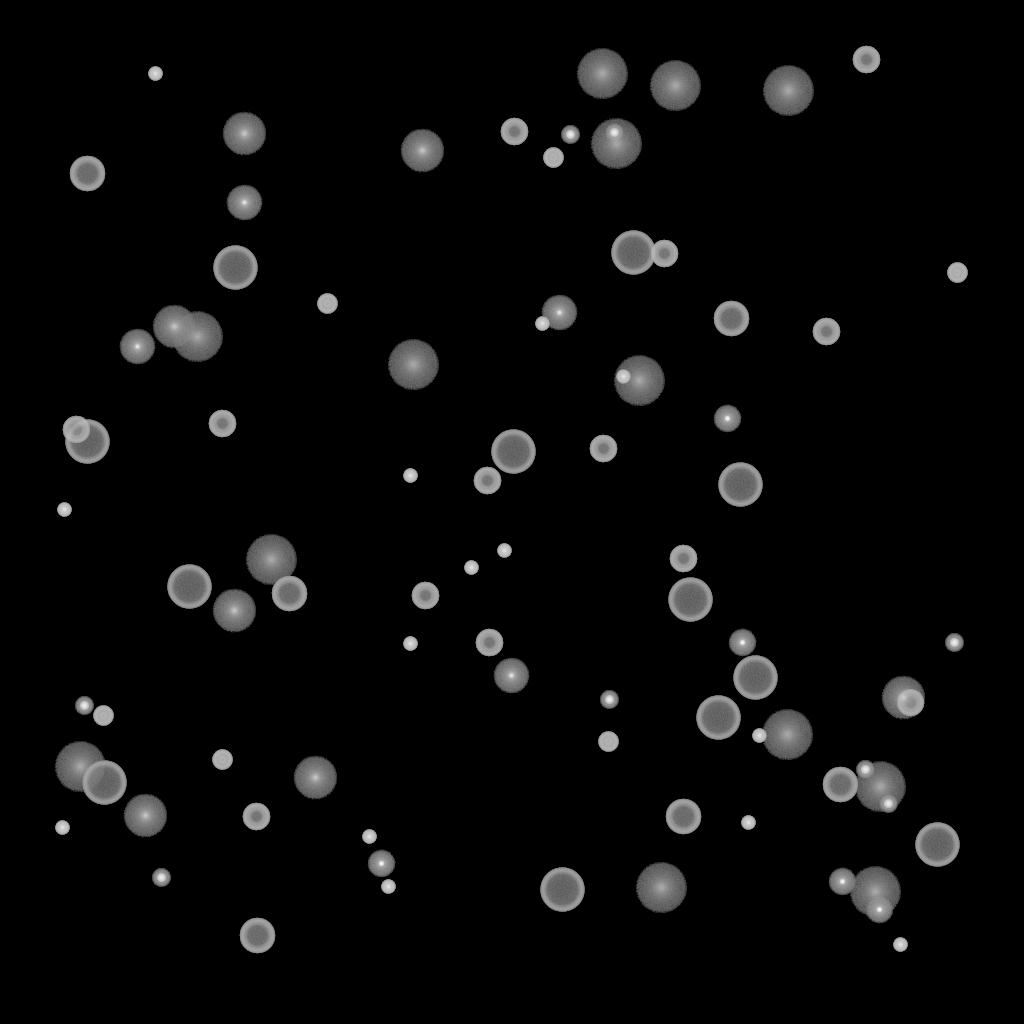depth:-10: (713, 405, 741, 433), (865, 896, 893, 924), (367, 850, 395, 878), (728, 629, 756, 657), (828, 868, 856, 896)
depth:-20: (879, 795, 897, 813), (75, 697, 93, 715), (152, 869, 170, 887), (600, 691, 618, 709), (561, 126, 579, 144), (945, 634, 963, 652), (856, 761, 874, 779), (605, 124, 623, 142)
depth:-30: (403, 637, 417, 651), (752, 729, 766, 743), (362, 830, 376, 844), (741, 816, 755, 830), (535, 317, 549, 331), (464, 561, 478, 575), (55, 821, 69, 835), (893, 938, 907, 952), (497, 544, 511, 558), (148, 67, 162, 81), (381, 880, 395, 894), (403, 469, 417, 483), (57, 503, 71, 517), (616, 370, 630, 384)
depth:-40: (947, 263, 967, 283), (212, 750, 232, 770), (543, 148, 563, 168), (317, 294, 337, 314), (93, 706, 113, 726), (598, 732, 618, 752)
depth:-50: (475, 629, 503, 657), (411, 582, 439, 610), (62, 416, 90, 444), (669, 545, 697, 573), (852, 46, 880, 74), (812, 318, 840, 346), (208, 410, 236, 438), (896, 689, 924, 717), (650, 240, 678, 268), (473, 467, 501, 495), (242, 803, 270, 831), (589, 435, 617, 463), (500, 118, 528, 146)
depth:-60: (713, 301, 749, 337), (271, 576, 307, 612), (665, 799, 701, 835), (239, 918, 275, 954), (822, 767, 858, 803), (69, 156, 105, 192)
depth:-70: (65, 420, 109, 464), (540, 868, 584, 912), (696, 696, 740, 740), (611, 231, 655, 275), (213, 246, 257, 290), (668, 578, 712, 622), (733, 656, 777, 700), (167, 565, 211, 609), (915, 823, 959, 867), (82, 761, 126, 805), (491, 430, 535, 474), (718, 463, 762, 507)
depth:0: (493, 658, 529, 694), (226, 185, 262, 221), (541, 295, 577, 331), (119, 329, 155, 365)
depth:10: (152, 305, 196, 349), (400, 129, 444, 173), (293, 756, 337, 800), (212, 589, 256, 633), (222, 112, 266, 156), (881, 676, 925, 720), (123, 794, 167, 838)
depth:20: (590, 119, 642, 169), (854, 762, 906, 812), (762, 66, 814, 116), (613, 356, 665, 406), (171, 312, 223, 362), (635, 863, 687, 913), (245, 535, 297, 585), (761, 710, 813, 760), (649, 61, 701, 111), (54, 742, 106, 792), (849, 867, 901, 917), (576, 49, 628, 99), (387, 340, 439, 390)
